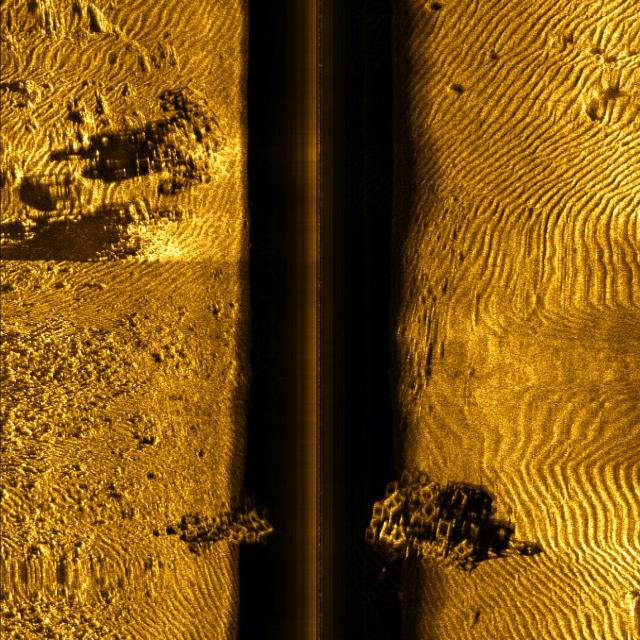artificial reef: (360, 464, 484, 574), (173, 493, 276, 555)
